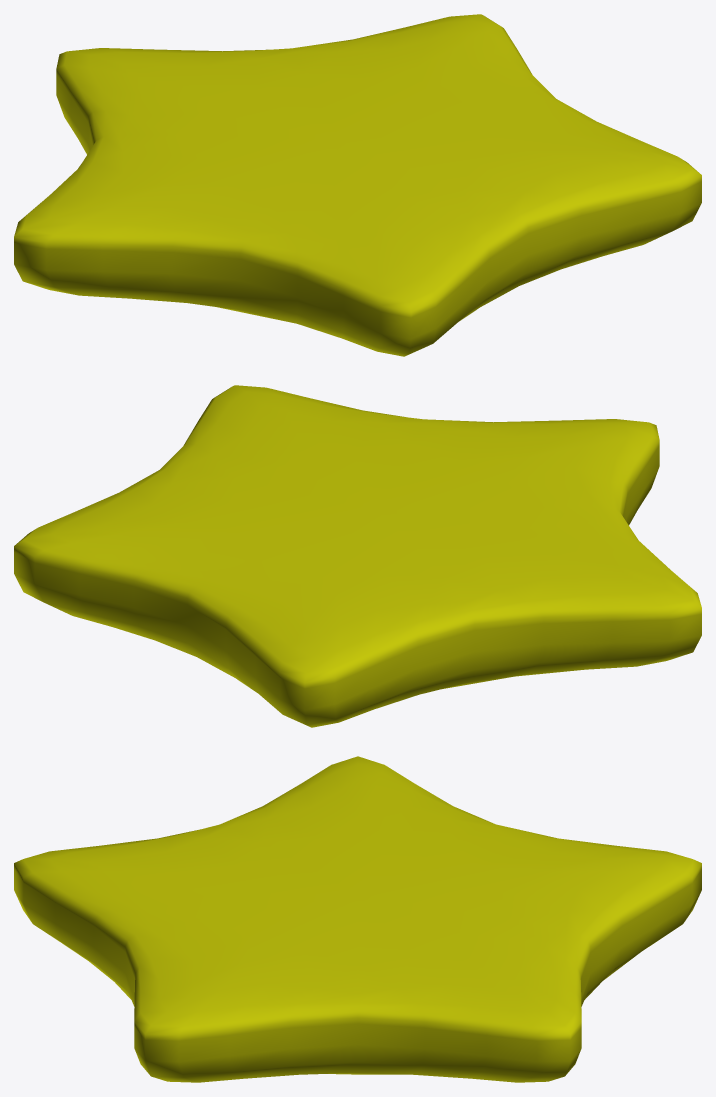
The model's file is Star_Model.fbx.
3 views of the same model, one above another, from view 1: azimuth 30°, elevation 25°; view 2: azimuth 150°, elevation 25°; view 3: azimuth 270°, elevation 25° (orthographic). The views are drawn at different scales.
Visible parts, largest first — view 1: pCylinder1; view 2: pCylinder1; view 3: pCylinder1.
Boxes of the visible parts, left/top/right/bottom form: pCylinder1: left=14, top=14, right=701, bottom=356; pCylinder1: left=14, top=385, right=701, bottom=727; pCylinder1: left=14, top=756, right=701, bottom=1082.
Bounding box in the file's own units: 0.1437 × 0.0253 × 0.1505.
